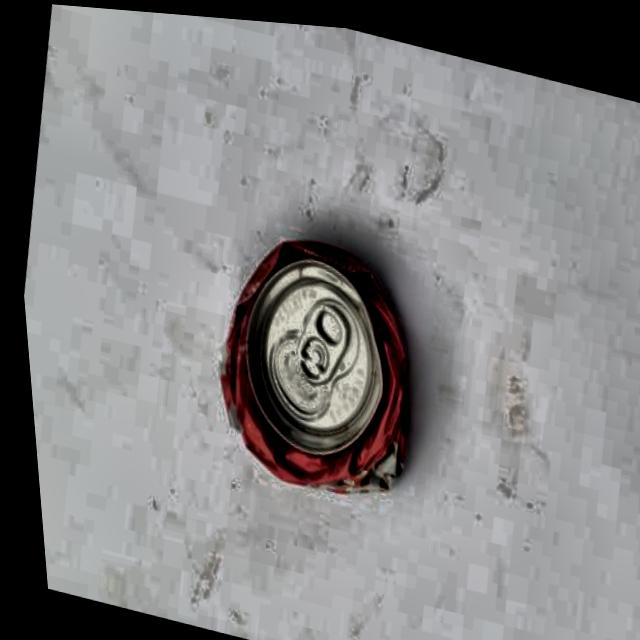Cans: (171, 182, 442, 511)
